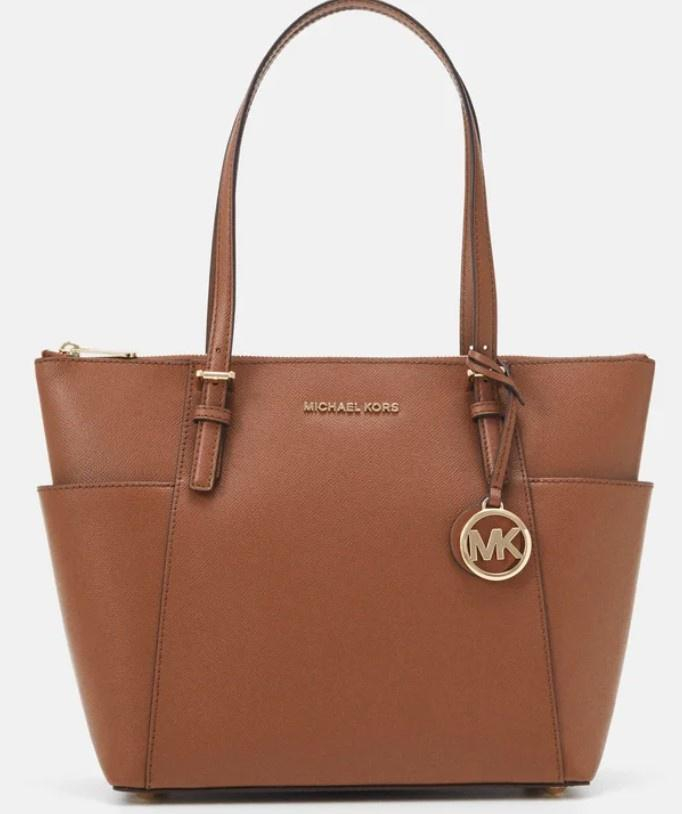MICHAEL-KORS: (303, 401, 399, 413)
